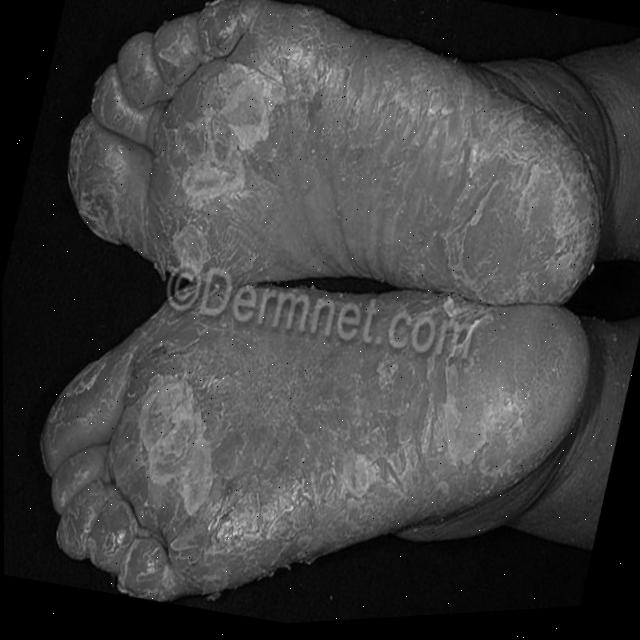Eczema: (15, 0, 621, 616)
